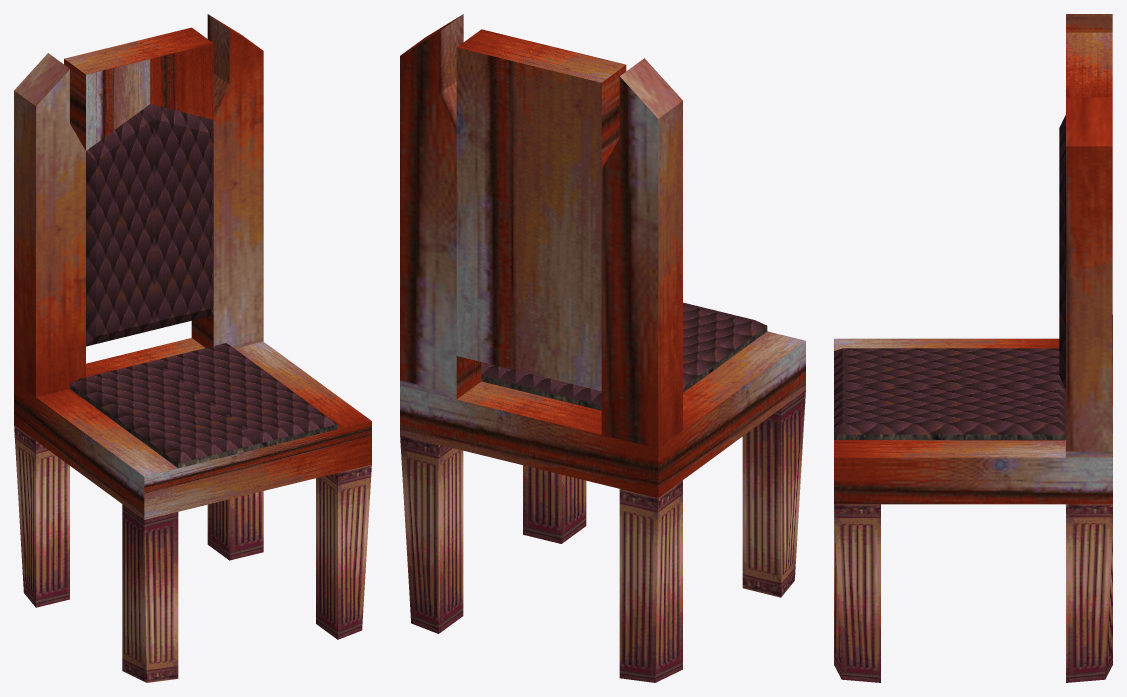
Rendered from chair.fbx.
3 renders of one model, left to right at view 1: azimuth 30°, elevation 25°; view 2: azimuth 150°, elevation 25°; view 3: azimuth 270°, elevation 25°, orthographic. The views are drawn at different scales.
Parts seen in each view (by area): view 1: chair; view 2: chair; view 3: chair.
Boxes of the visible parts, box(x1,y1,x2,y2) form: chair: box(14, 14, 371, 682); chair: box(400, 14, 805, 682); chair: box(834, 14, 1112, 682).
Bounding box in the file's own units: 130 × 289 × 129.
